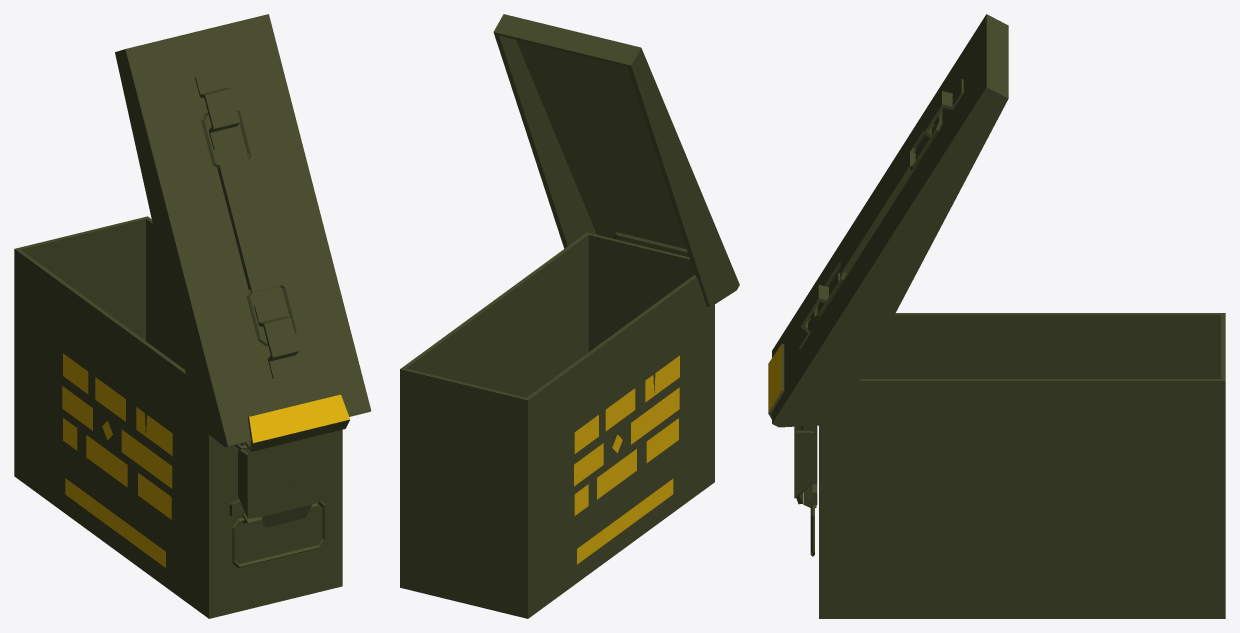
File: ammo_can_open.fbx
3 renders of one model, left to right at view 1: azimuth 30°, elevation 25°; view 2: azimuth 150°, elevation 25°; view 3: azimuth 270°, elevation 25°, orthographic. The views are drawn at different scales.
Visible parts, largest first — view 1: ammo_can; view 2: ammo_can; view 3: ammo_can.
Boxes of the visible parts, x1,y1,x2,y2 form: ammo_can: (14, 14, 371, 618); ammo_can: (400, 14, 739, 618); ammo_can: (768, 14, 1225, 618).
Size of the model in its own units: 13.56 by 46.27 by 35.85.
